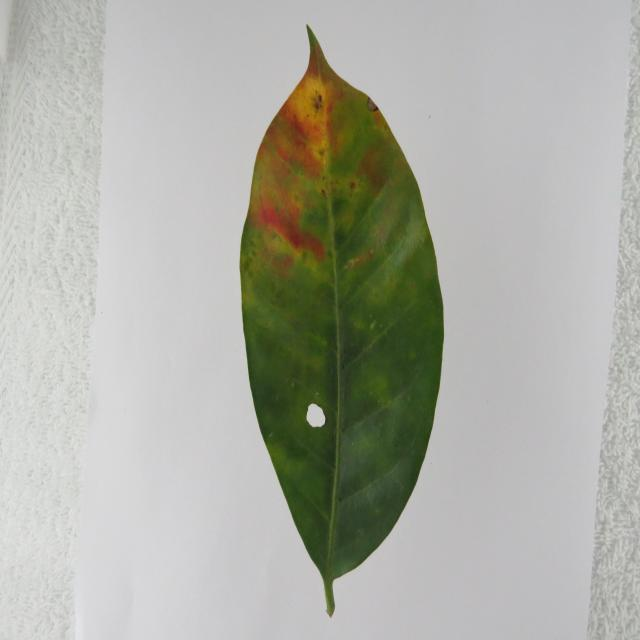DeficienciaNutricional-Fosforo: (240, 27, 444, 615)
